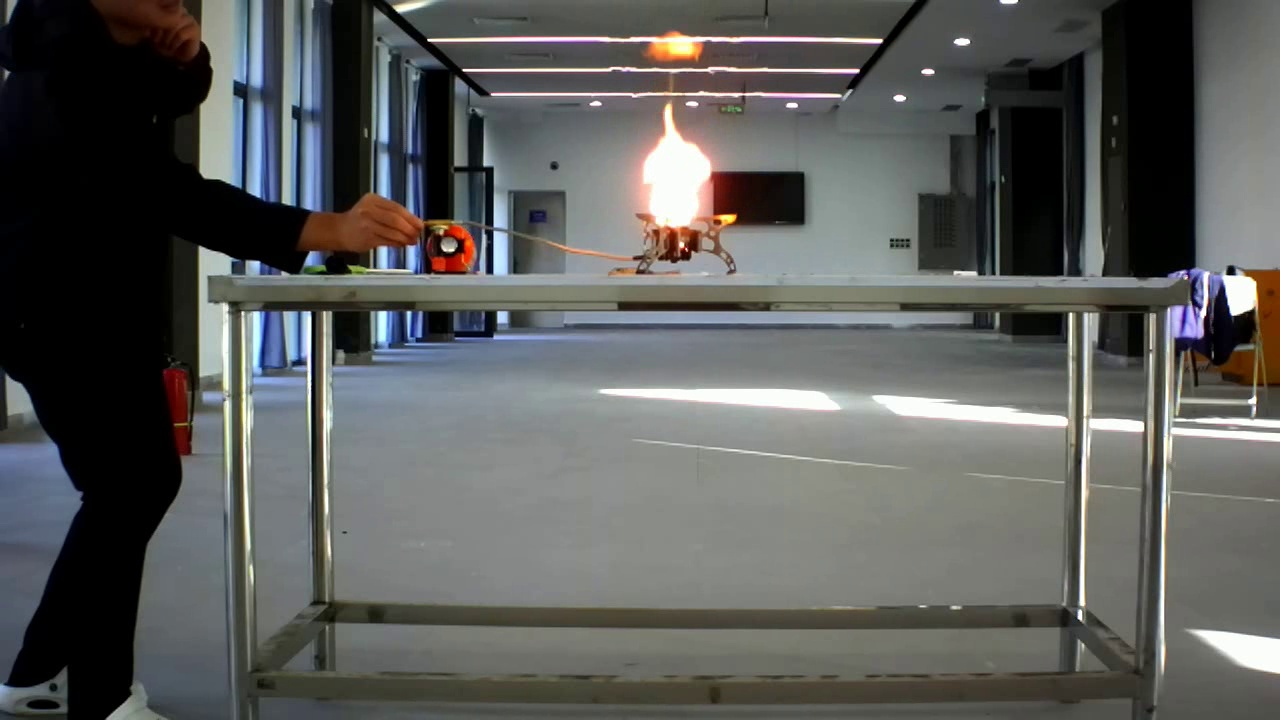Fire: (616, 28, 748, 267)
